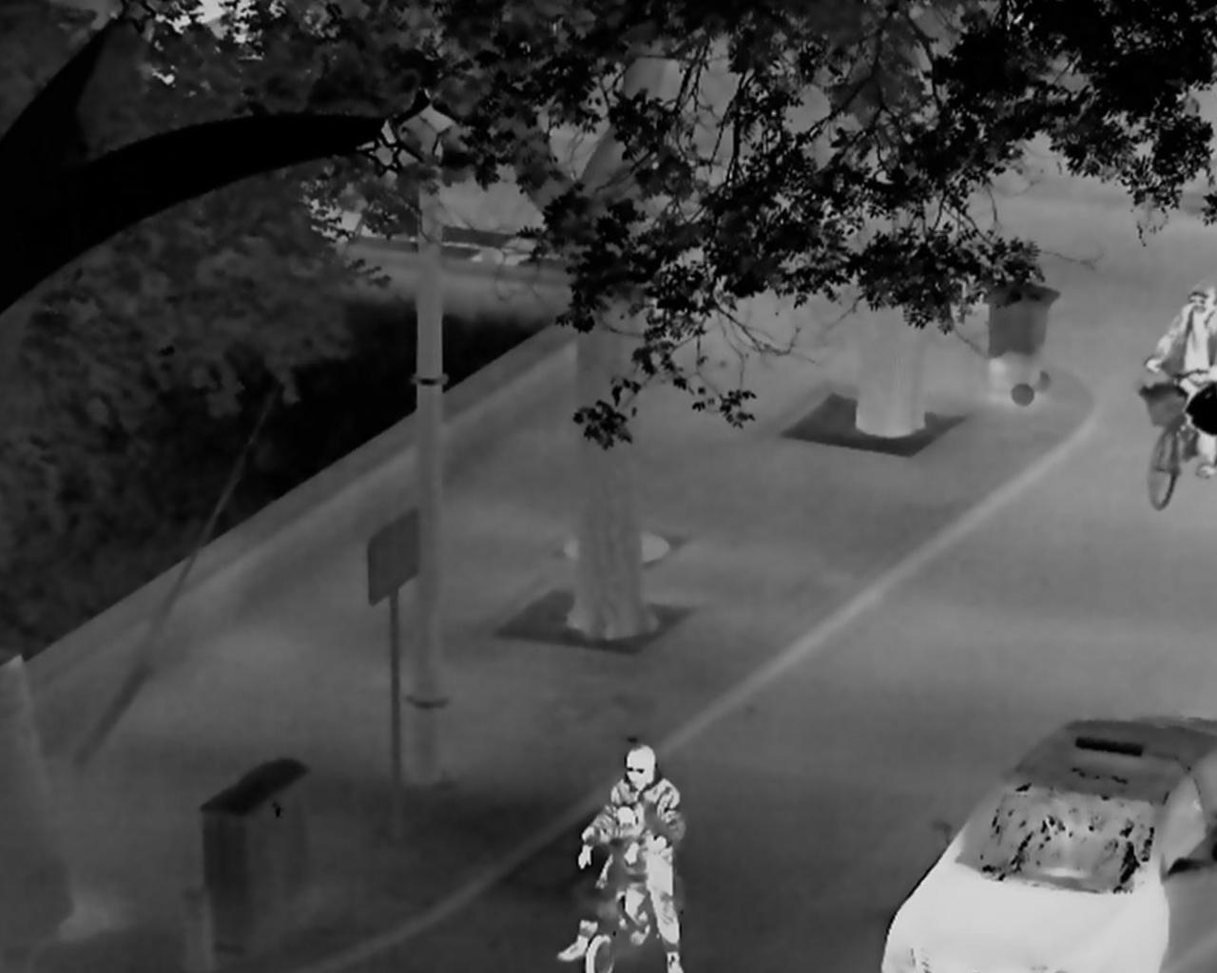person: (553, 738, 690, 973), (1142, 278, 1217, 481), (576, 800, 653, 946)
